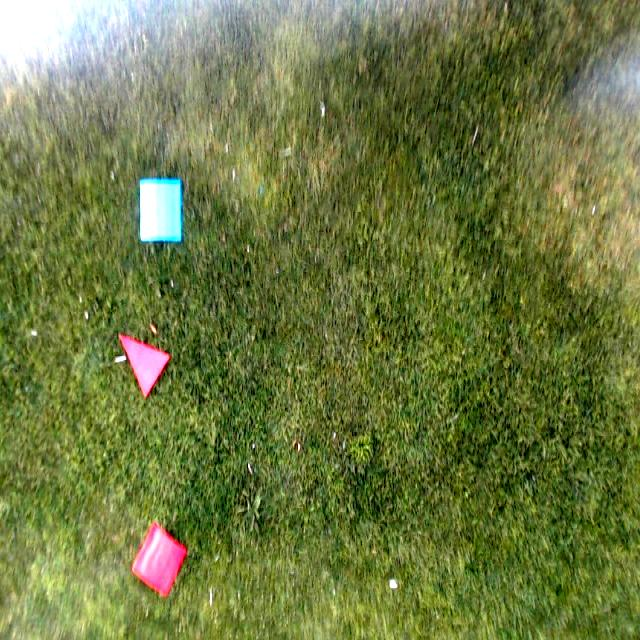blue_square: (139, 180, 181, 242)
red_square: (132, 526, 186, 600)
red_triangle: (120, 337, 170, 398)
